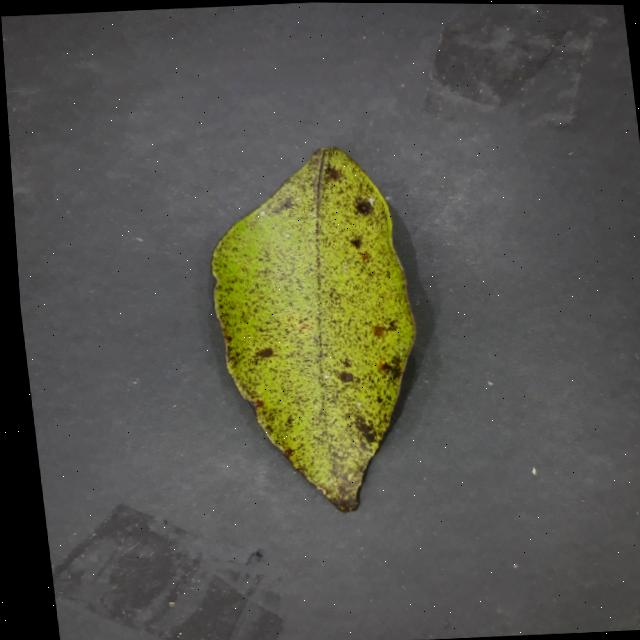greasy_spot: (210, 148, 413, 512)
